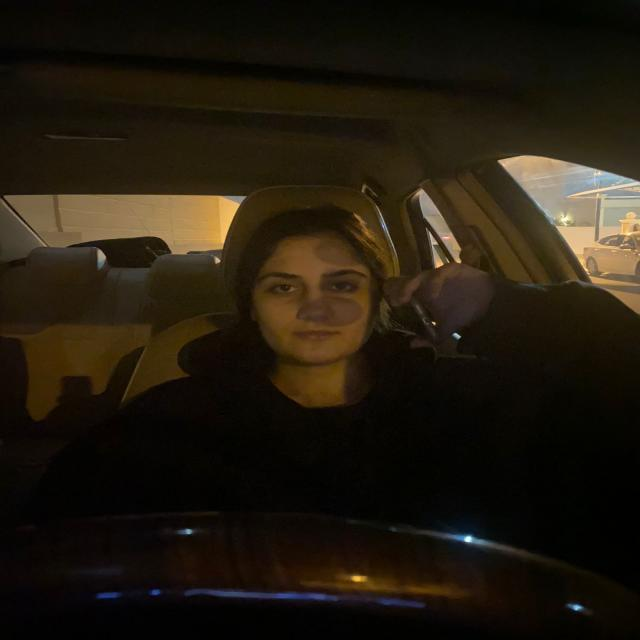mobile: (393, 271, 448, 360)
person: (230, 192, 392, 378)
